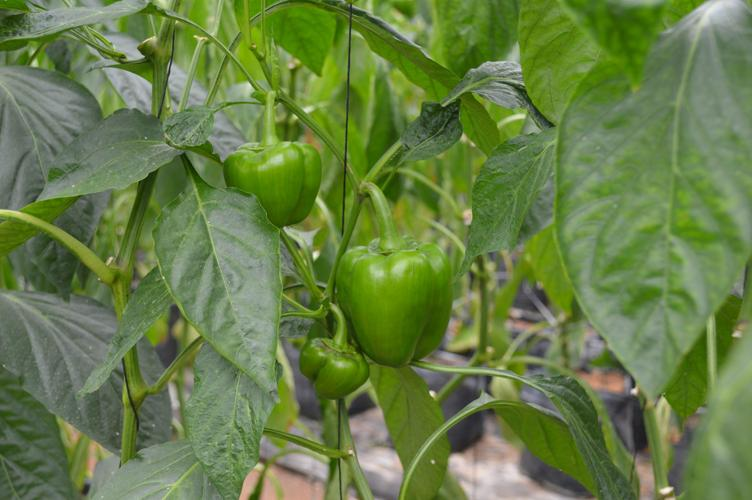BellPepper: (336, 243, 455, 365), (228, 142, 319, 231), (298, 344, 371, 394)
